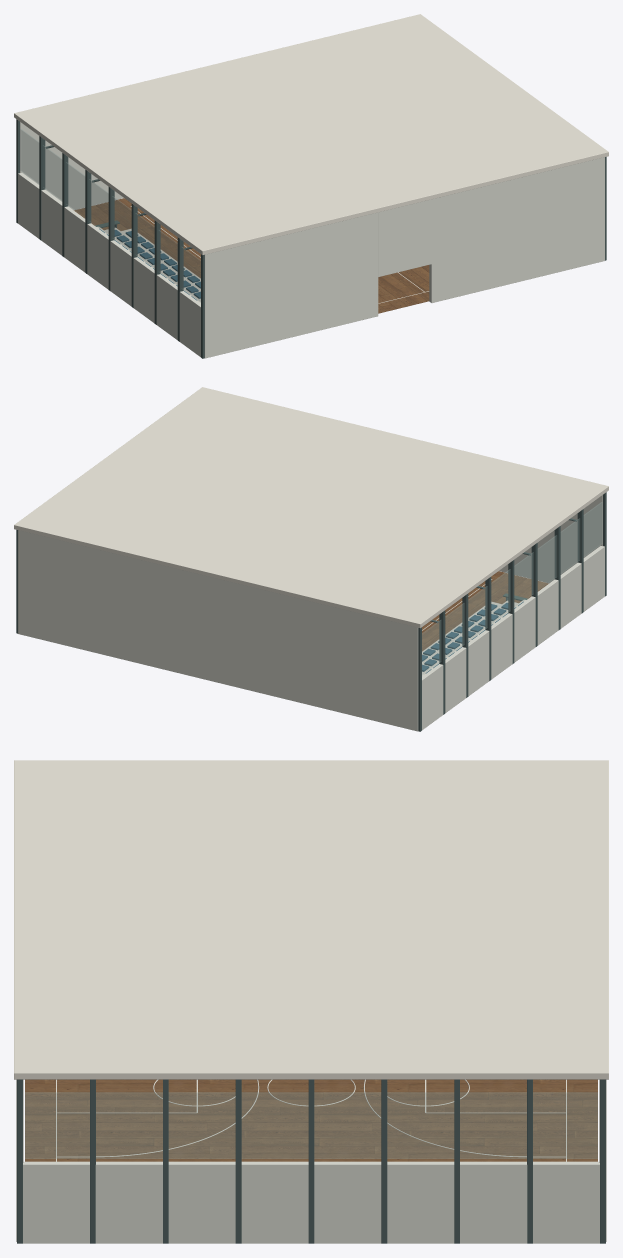
File: basketball-hall.glb
3 renders of one model, top to bottom at view 1: azimuth 30°, elevation 25°; view 2: azimuth 150°, elevation 25°; view 3: azimuth 270°, elevation 25°, orthographic. The views are drawn at different scales.
Parts seen in each view (by area): view 1: basketball-hall__architecture_and_equipment; view 2: basketball-hall__architecture_and_equipment; view 3: basketball-hall__architecture_and_equipment.
Part boxes in pixels (x1,y1,x2,y2): basketball-hall__architecture_and_equipment: (14,14,608,358); basketball-hall__architecture_and_equipment: (14,387,608,731); basketball-hall__architecture_and_equipment: (14,760,608,1243).
Size of the model in its own units: 30.5 by 7.8 by 24.5.
10 materials, 1 textured.
